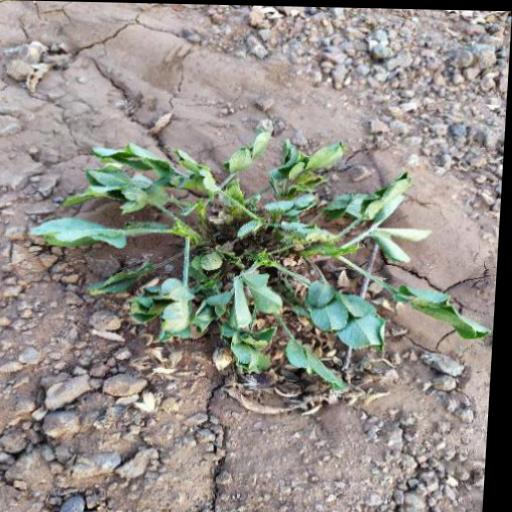weed: (47, 143, 429, 391)
